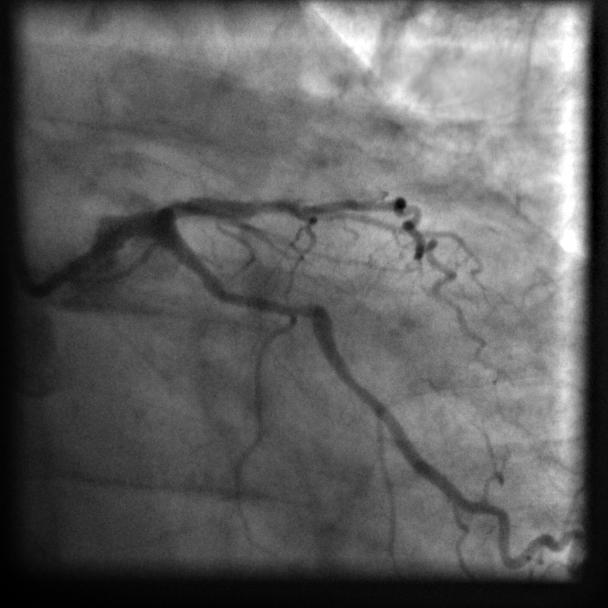Stenosis: (224, 282, 314, 329)
